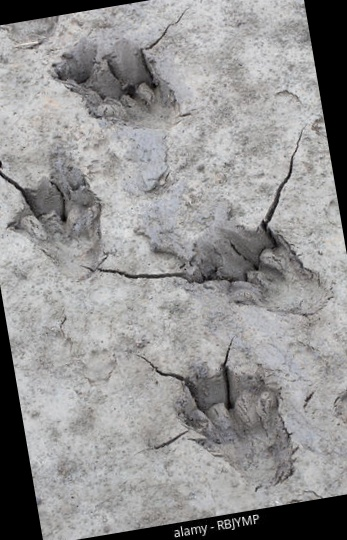beaver: (143, 197, 344, 351), (132, 342, 311, 509), (28, 20, 208, 154), (0, 142, 142, 305)
